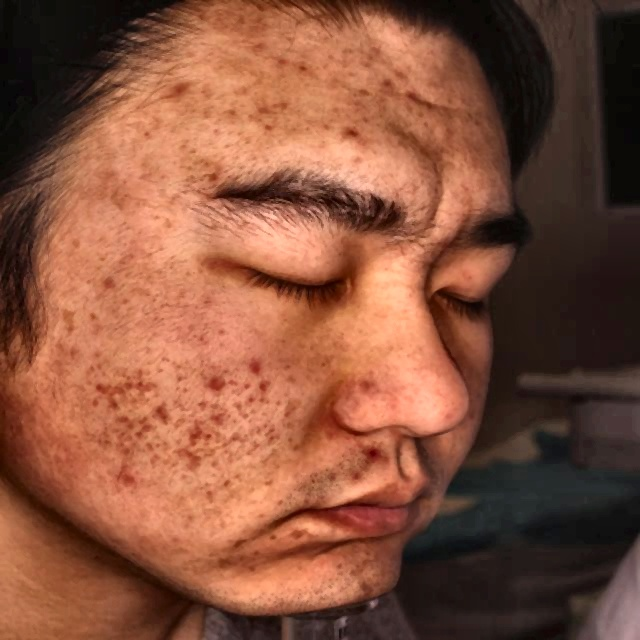pustule: (245, 351, 282, 383), (352, 446, 393, 469), (166, 76, 194, 109), (339, 119, 366, 150), (199, 370, 230, 396), (120, 467, 150, 492), (185, 452, 221, 471), (148, 398, 170, 428), (185, 422, 208, 450), (400, 84, 420, 115), (89, 379, 108, 404)
